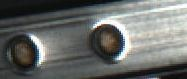joints: (88, 20, 128, 63), (4, 31, 44, 72)
